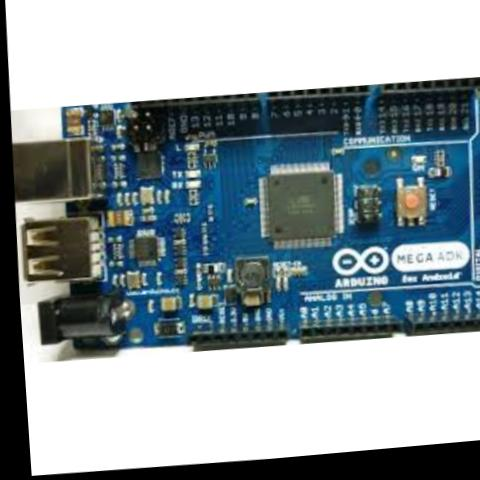Arduino-Mega: (6, 75, 480, 370)
